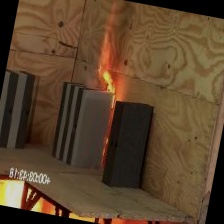fire: (81, 60, 127, 118)
